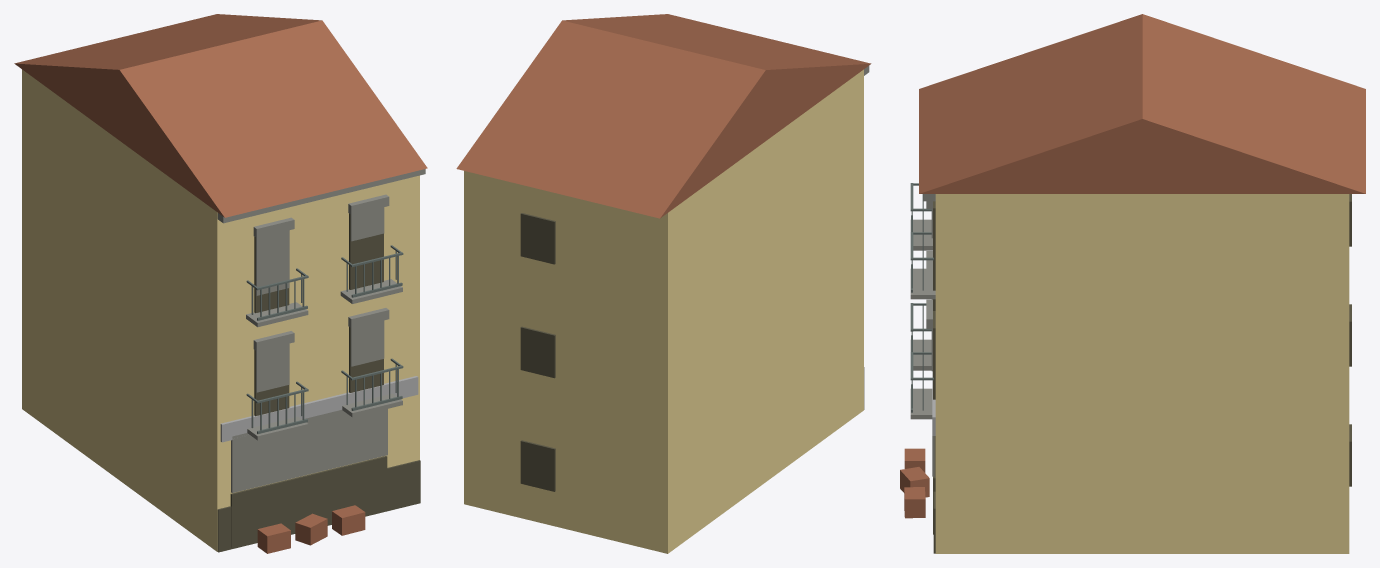
File: SM_BajoComercial_v1_Ultramarinos_LOD0.fbx
The picture shows the model from 3 angles, left to right: view 1: azimuth 30°, elevation 25°; view 2: azimuth 150°, elevation 25°; view 3: azimuth 270°, elevation 25°; orthographic projection. The views are drawn at different scales.
Visible parts, largest first — view 1: SM_pueblo_valenciano_v6_LOD0; view 2: SM_pueblo_valenciano_v6_LOD0; view 3: SM_pueblo_valenciano_v6_LOD0.
Part boxes in pixels (left/top/right/bottom): SM_pueblo_valenciano_v6_LOD0: left=14, top=14, right=427, bottom=553; SM_pueblo_valenciano_v6_LOD0: left=456, top=14, right=871, bottom=553; SM_pueblo_valenciano_v6_LOD0: left=900, top=14, right=1365, bottom=553.
Size of the model in its own units: 6 by 11.6 by 11.26.
